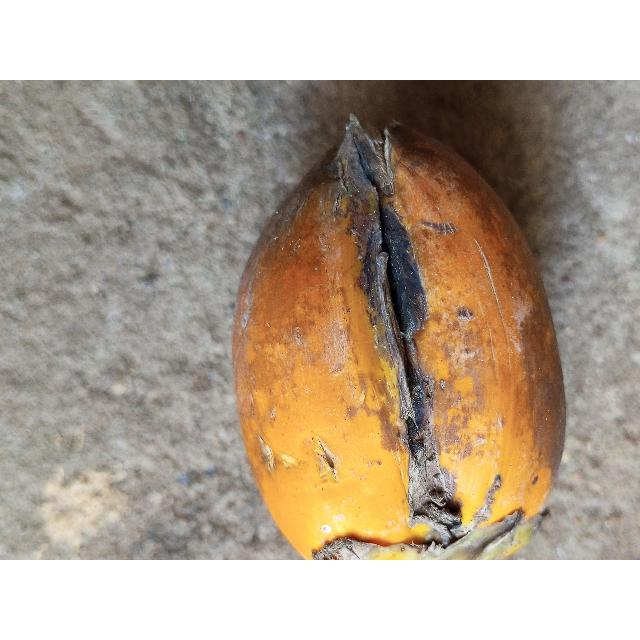damaged: (230, 117, 567, 560)
